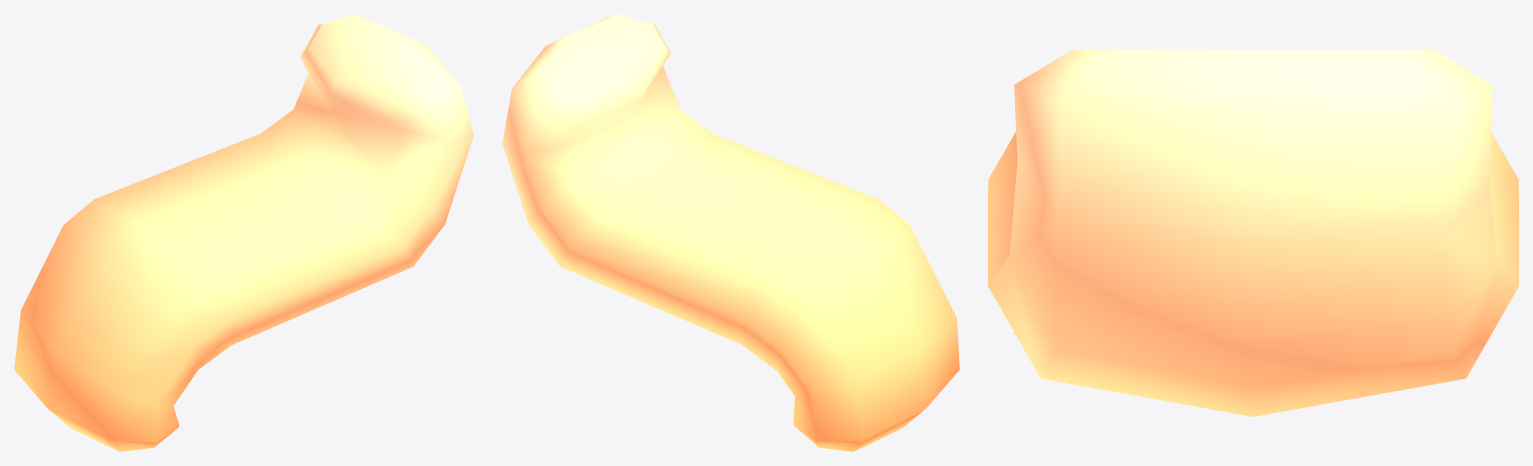
File: wood_guard_065_004.glb
The picture shows the model from 3 angles, left to right: view 1: azimuth 30°, elevation 25°; view 2: azimuth 150°, elevation 25°; view 3: azimuth 270°, elevation 25°; orthographic projection. The views are drawn at different scales.
Visible parts, largest first — view 1: wood_guard_065.004; view 2: wood_guard_065.004; view 3: wood_guard_065.004.
Boxes of the visible parts, left/top/right/bottom form: wood_guard_065.004: left=14, top=14, right=473, bottom=451; wood_guard_065.004: left=502, top=14, right=959, bottom=451; wood_guard_065.004: left=988, top=49, right=1518, bottom=416.
Bounding box in the file's own units: 5.51 × 4.2 × 3.22.
Materials: 1 (1 with a texture image).
